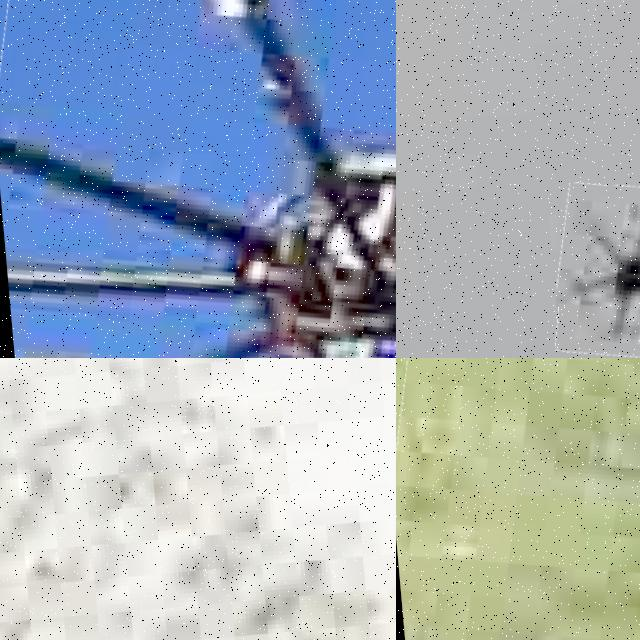drone: (0, 0, 396, 358), (396, 358, 640, 640), (548, 174, 640, 358)
